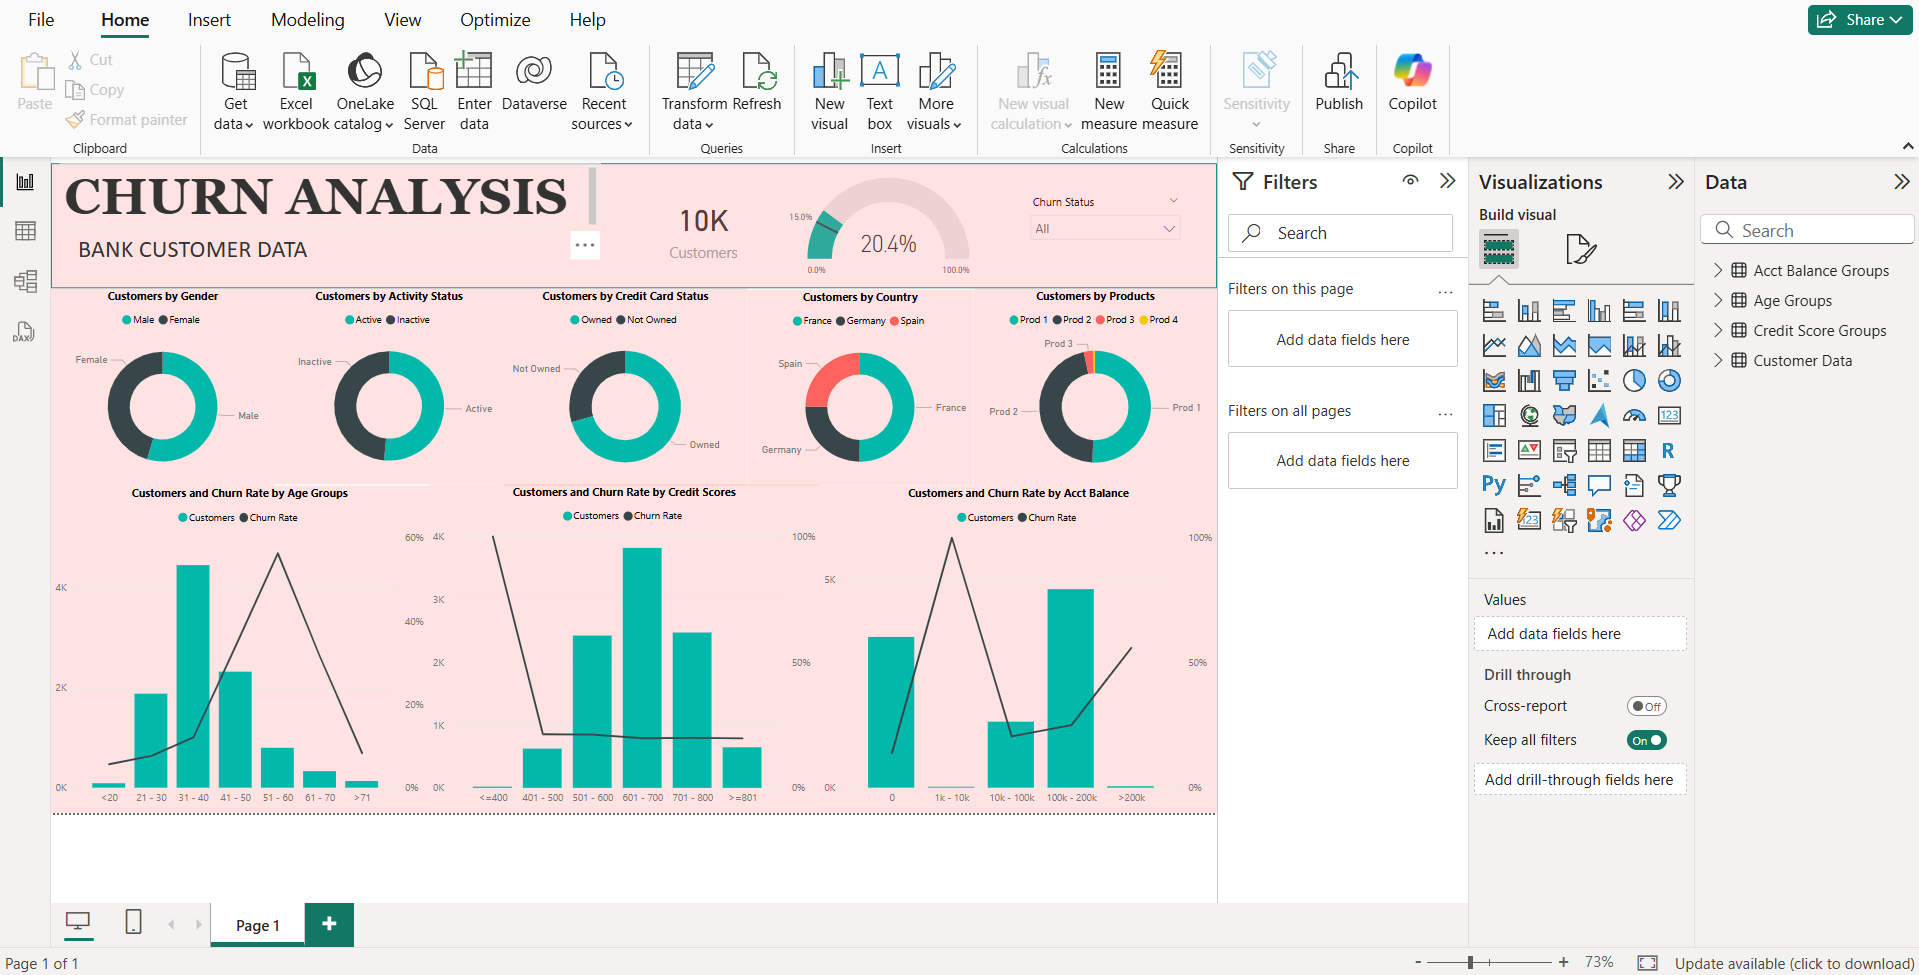

The dashboard page shown, as its layout file describes it:
{"tool":"powerbi","page":{"name":"Page 1","canvas":[1280,720],"ordinal":0},"visuals":[{"type":"card","fields":{"Values":["Customer Data.Customers"]},"box":[617.5,0,197.6,156.4],"z":0},{"type":"donutChart","fields":{"Category":["Customer Data.Gender"],"Y":["Customer Data.Customers"]},"box":[0,144.1,245.6,216.8],"z":1000},{"type":"donutChart","fields":{"Y":["Customer Data.Customers"],"Category":["Customer Data.Activity Status"]},"box":[245.6,144.1,251.1,215.4],"z":2000},{"type":"donutChart","fields":{"Y":["Customer Data.Customers"],"Category":["Customer Data.Credit Card Status"]},"box":[496.7,144.1,267.6,216.8],"z":3000},{"type":"donutChart","fields":{"Y":["Customer Data.Customers"],"Category":["Customer Data.Country"]},"box":[764.3,145.5,248.4,215.4],"z":4000},{"type":"donutChart","fields":{"Y":["Customer Data.Customers"],"Category":["Customer Data.Products"]},"box":[1012.7,144.1,267.6,216.8],"z":5000},{"type":"lineClusteredColumnComboChart","fields":{"Category":["Age Groups.Age Groups"],"Y":["Customer Data.Customers"],"Y2":["Customer Data.Churn Rate"]},"box":[0,360.9,414.4,359.5],"z":6000},{"type":"lineClusteredColumnComboChart","fields":{"Y":["Customer Data.Customers"],"Y2":["Customer Data.Churn Rate"],"Category":["Credit Score Groups.Credit Scores"]},"box":[414.4,359.5,429.5,360.9],"z":7000},{"type":"lineClusteredColumnComboChart","fields":{"Y":["Customer Data.Customers"],"Y2":["Customer Data.Churn Rate"],"Category":["Acct Balance Groups.Acct Balance"]},"box":[843.9,360.9,436.4,359.5],"z":8000},{"type":"slicer","fields":{"Values":["Customer Data.Churn Status"]},"box":[1064.8,35.7,185.2,86.4],"z":9000},{"type":"gauge","fields":{"Y":["Customer Data.Churn Rate"],"MinValue":["Min(Customer Data.Min Churned Rate)"],"MaxValue":["Max(Customer Data.Max Churned Rate)"],"TargetValue":["Max(Customer Data.Targeted Churn Rate)"]},"box":[782.2,17.8,251.1,119.4],"z":10000},{"type":"shape","box":[0,6.9,1280.3,137.2],"z":11000},{"type":"textbox","box":[9.6,6.9,594.2,72.7],"z":12000},{"type":"textbox","box":[24.7,79.6,274.4,42.5],"z":13000}]}

Visuals, with their boxes on the page's 1280x720 design canvas (x1, y1, x2, y2). These are canvas units, not pixel positions in the 1919x975 screenshot, which may show the page scaled, cropped or inside an application window:
card - Customer Data.Customers: l=618, t=0, r=815, b=156
donutChart - Customer Data.Gender x Customer Data.Customers: l=0, t=144, r=246, b=361
donutChart - Customer Data.Customers x Customer Data.Activity Status: l=246, t=144, r=497, b=360
donutChart - Customer Data.Customers x Customer Data.Credit Card Status: l=497, t=144, r=764, b=361
donutChart - Customer Data.Customers x Customer Data.Country: l=764, t=146, r=1013, b=361
donutChart - Customer Data.Customers x Customer Data.Products: l=1013, t=144, r=1280, b=361
lineClusteredColumnComboChart - Age Groups.Age Groups x Customer Data.Customers: l=0, t=361, r=414, b=720
lineClusteredColumnComboChart - Customer Data.Customers x Customer Data.Churn Rate: l=414, t=360, r=844, b=720
lineClusteredColumnComboChart - Customer Data.Customers x Customer Data.Churn Rate: l=844, t=361, r=1280, b=720
slicer - Customer Data.Churn Status: l=1065, t=36, r=1250, b=122
gauge - Customer Data.Churn Rate x Min(Customer Data.Min Churned Rate): l=782, t=18, r=1033, b=137
shape: l=0, t=7, r=1280, b=144
textbox: l=10, t=7, r=604, b=80
textbox: l=25, t=80, r=299, b=122
